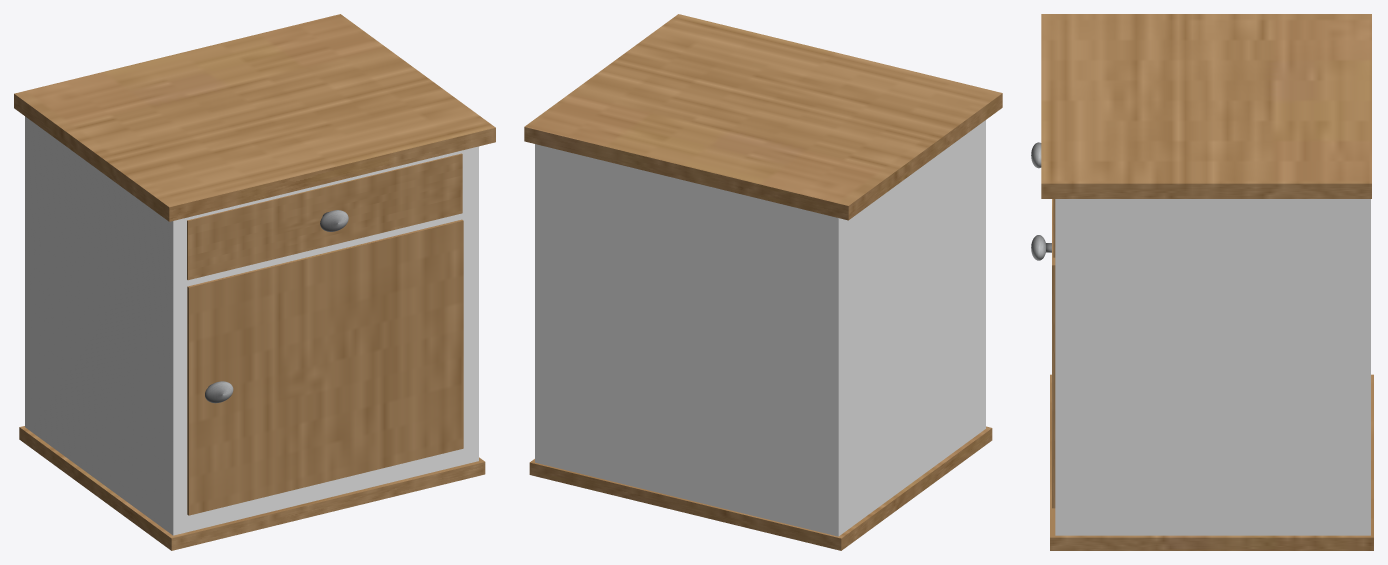
The model's file is Bedside Cabinet (left).fbx.
The picture shows the model from 3 angles, left to right: view 1: azimuth 30°, elevation 25°; view 2: azimuth 150°, elevation 25°; view 3: azimuth 270°, elevation 25°; orthographic projection. The views are drawn at different scales.
Parts seen in each view (by area): view 1: Base, Door 1, Counter, Door 2, Base.001; view 2: Base, Counter, Base.001; view 3: Base, Counter, Base.001, Door 1.
Boxes of the visible parts, x1,y1,x2,y2 form: Base: (25,116,478,535); Door 1: (187,219,463,515); Counter: (14,14,495,221); Door 2: (187,153,462,280); Base.001: (19,426,485,550); Base: (535,120,985,536); Counter: (524,14,1002,220); Base.001: (529,426,992,550); Base: (1055,199,1370,535); Counter: (1041,14,1371,198); Base.001: (1050,374,1373,550); Door 1: (1052,199,1055,508).
Bounding box in the file's own units: 0.6189 × 0.6306 × 0.5284.
7 materials, 7 textured.
